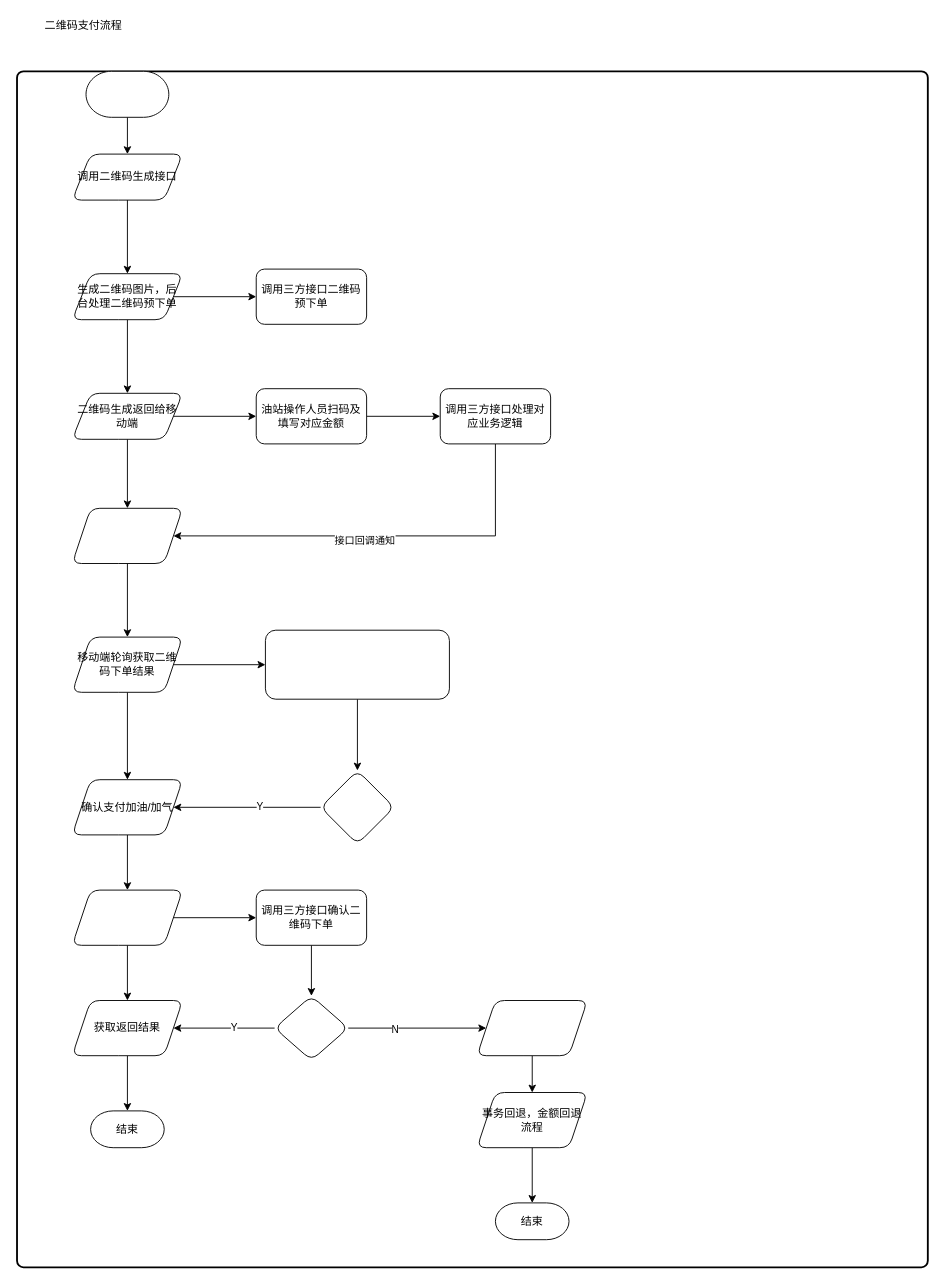
The diagram is 944 pixels wide and 1283 high, and some of its shapes have lost their labels. The box of each missing label's shape, as (x1, y1, x2, y2) in pixels:
二维码支付开始: (85, 70, 169, 117)
二维码预下单成功: (320, 770, 394, 844)
成功: (274, 995, 348, 1060)
执行扣款流程: (71, 889, 183, 945)
提醒支付失败及原因，并作出记录: (476, 1000, 587, 1056)
移动端轮询获取二维码下单结果 需要轮询策略：间隔时间、查询次数 之后不再查询: (264, 629, 449, 699)
获取回调信息，补充后台预下单信息: (71, 507, 183, 564)
